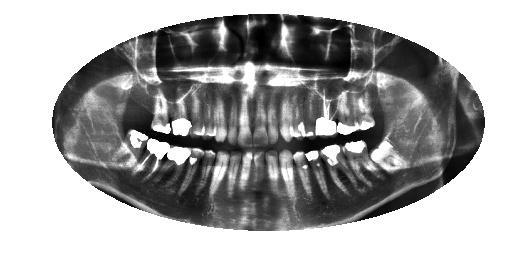i10healthy: (226, 148, 243, 201)
i11healthy: (206, 146, 231, 205)
i12healthy: (196, 142, 215, 203)
i13healthy: (177, 144, 204, 204)
i14healthy: (152, 142, 194, 199)
i15healthy: (130, 136, 171, 193)
i16healthy: (113, 126, 149, 177)
i1healthy: (361, 132, 409, 178)
i2healthy: (339, 137, 388, 189)
i3healthy: (316, 142, 360, 199)
i4healthy: (304, 145, 331, 203)
i5healthy: (291, 146, 315, 206)
i6healthy: (277, 143, 303, 223)
i7healthy: (263, 149, 282, 206)
i8decay: (253, 147, 266, 192)
i9healthy: (236, 151, 253, 195)
u10healthy: (220, 85, 241, 146)
u11healthy: (211, 87, 229, 146)
u12healthy: (199, 89, 217, 142)
u13healthy: (183, 83, 206, 144)
u14healthy: (166, 92, 193, 139)
u15healthy: (150, 88, 173, 136)
u16loss: (128, 94, 157, 129)
u1healthy: (351, 83, 379, 135)
u2healthy: (331, 86, 361, 136)
u3healthy: (313, 80, 339, 140)
u4healthy: (297, 85, 318, 140)
u5healthy: (286, 85, 306, 140)
u6healthy: (274, 86, 296, 144)
u7healthy: (262, 82, 281, 146)
u8healthy: (248, 86, 272, 149)
u9healthy: (235, 85, 255, 150)
